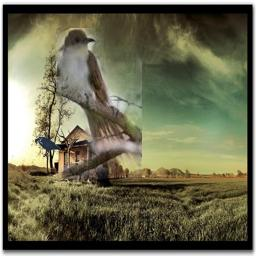Crow: (35, 136, 61, 157)
Cuckoo: (56, 28, 142, 179)
